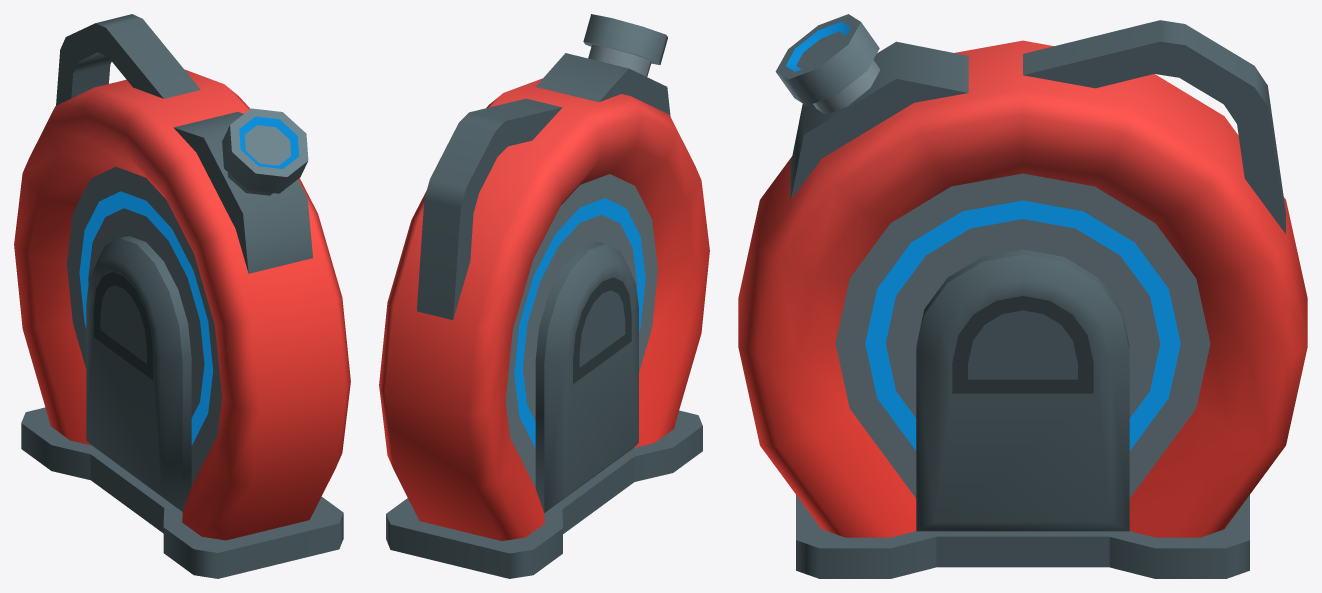
The model's file is Gas_can_012.glb.
3 renders of one model, left to right at view 1: azimuth 30°, elevation 25°; view 2: azimuth 150°, elevation 25°; view 3: azimuth 270°, elevation 25°, orthographic. The views are drawn at different scales.
Parts seen in each view (by area): view 1: Gas_can_012; view 2: Gas_can_012; view 3: Gas_can_012.
Boxes of the visible parts, x1,y1,x2,y2 form: Gas_can_012: (14,14,350,578); Gas_can_012: (379,14,709,578); Gas_can_012: (738,14,1307,578).
Size of the model in its own units: 0.2394 by 0.6642 by 0.667.
Materials: 2 (2 with a texture image).
